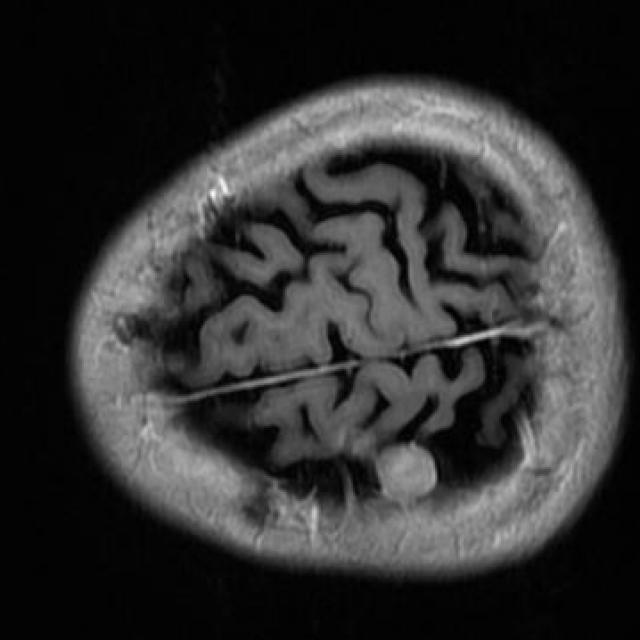meningioma: (382, 444, 439, 506)
